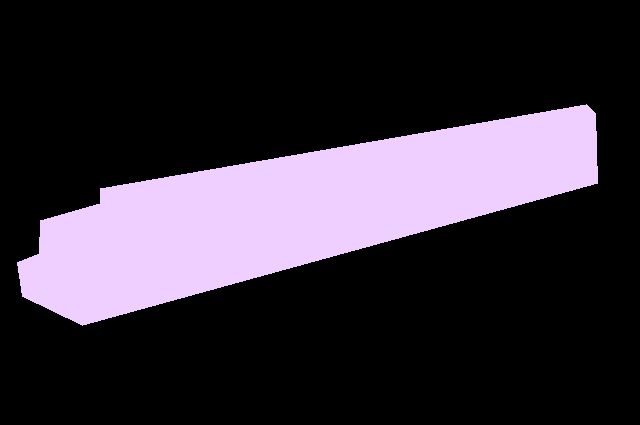Train: (17, 104, 598, 326)
